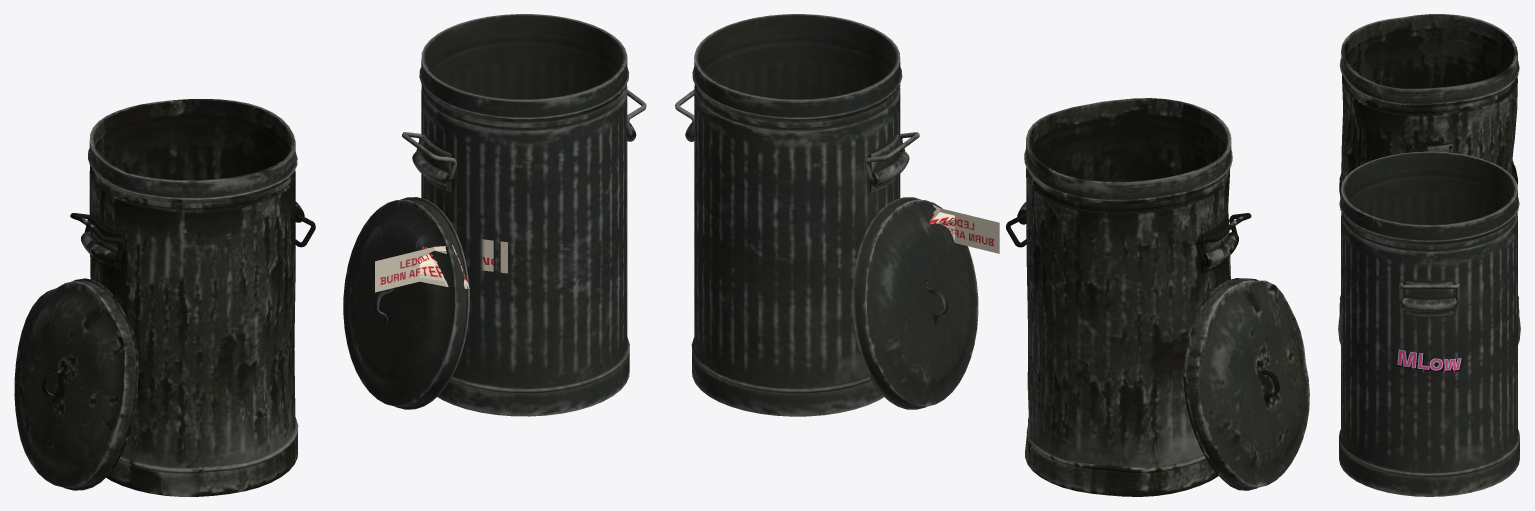
The model's file is nyb_dogday_wastebin.glb.
3 renders of one model, left to right at view 1: azimuth 30°, elevation 25°; view 2: azimuth 150°, elevation 25°; view 3: azimuth 270°, elevation 25°, orthographic. The views are drawn at different scales.
Visible parts, largest first — view 1: metal_trash_can_handle_left, stk_lbl_76e9834cbe.png; view 2: metal_trash_can_handle_left, stk_lbl_76e9834cbe.png; view 3: metal_trash_can_handle_left, stk_tag_mlow.png.
Boxes of the visible parts, <box> form: metal_trash_can_handle_left: <box>14,14,646,496</box>; stk_lbl_76e9834cbe.png: <box>375,239,507,292</box>; metal_trash_can_handle_left: <box>675,14,1309,496</box>; stk_lbl_76e9834cbe.png: <box>929,204,999,253</box>; metal_trash_can_handle_left: <box>1338,14,1520,496</box>; stk_tag_mlow.png: <box>1397,349,1462,373</box>.
Size of the model in its own units: 1.78 by 0.9062 by 0.5563.
5 materials, 5 textured.
